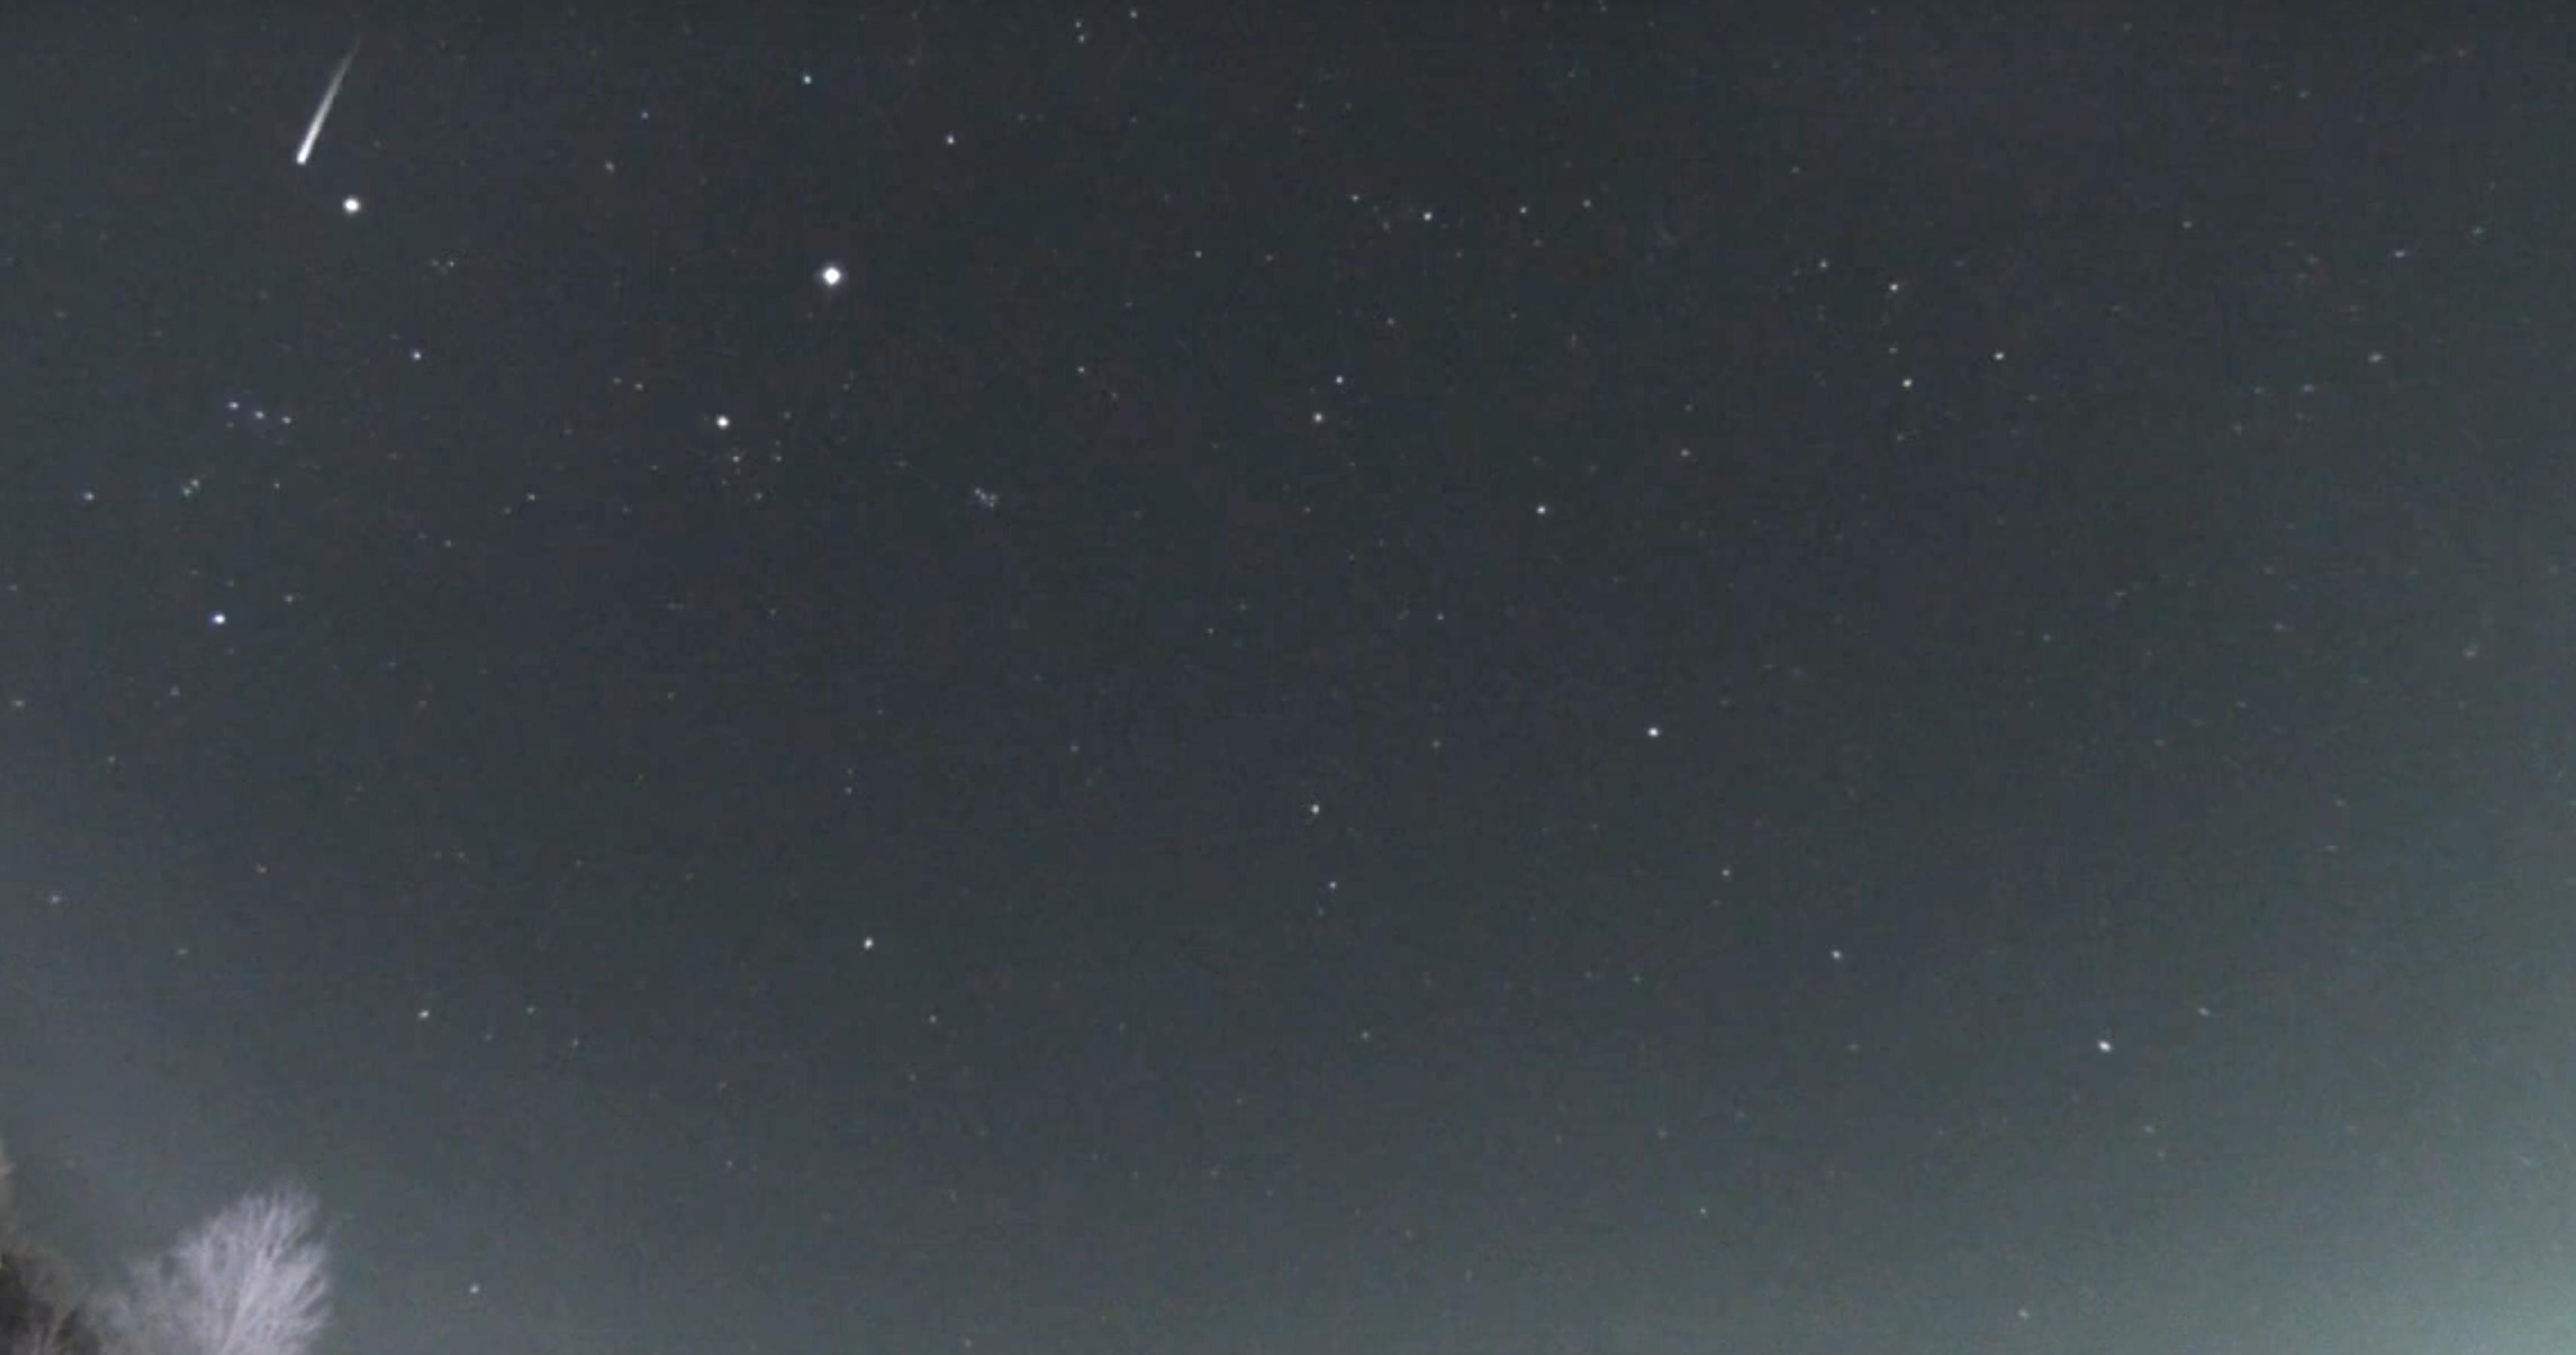meteorite: (264, 5, 392, 205)
